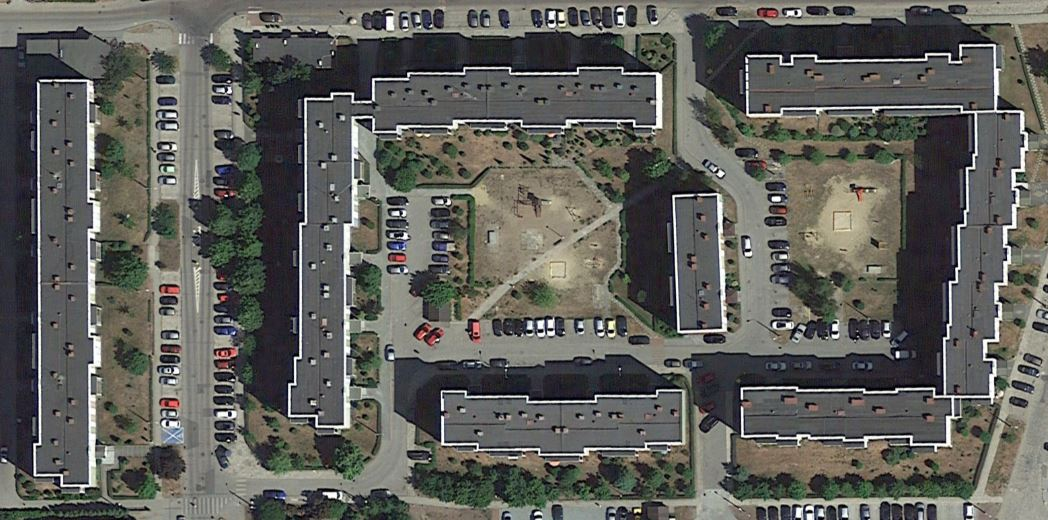block of flats: (24, 78, 110, 495), (936, 106, 1039, 408), (280, 85, 362, 436), (364, 57, 673, 140), (736, 40, 1012, 122), (433, 382, 694, 468), (730, 379, 964, 454), (666, 186, 734, 341)
